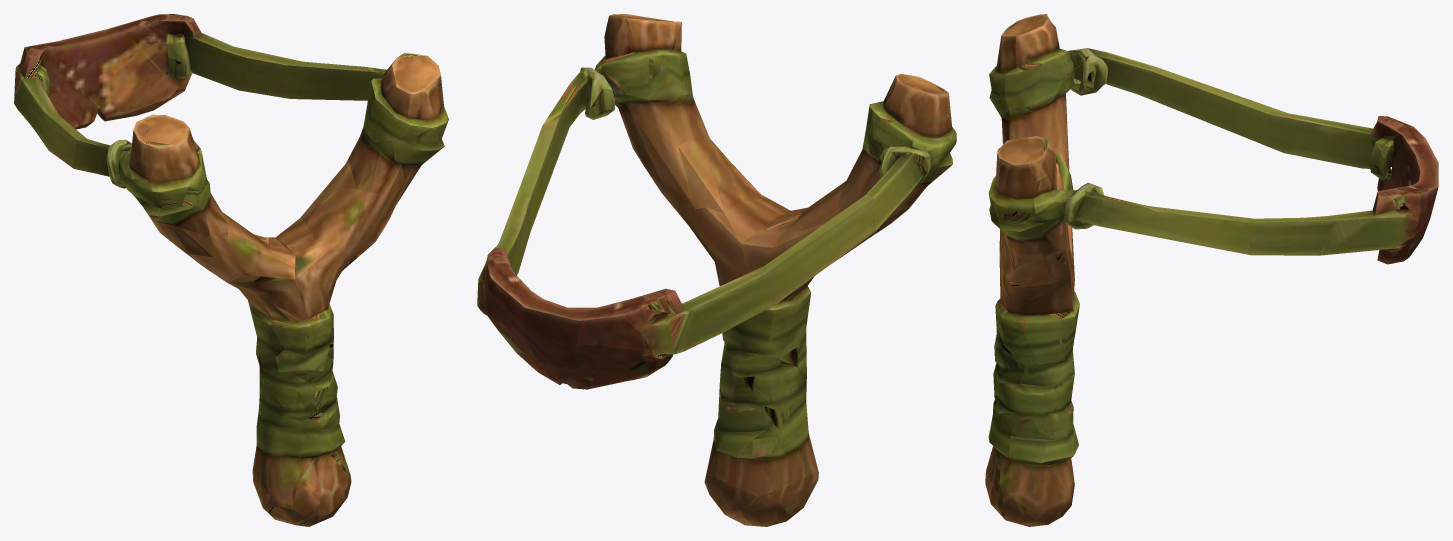
Rendered from gremlin-slingshot.low.glb.
The picture shows the model from 3 angles, left to right: view 1: azimuth 30°, elevation 25°; view 2: azimuth 150°, elevation 25°; view 3: azimuth 270°, elevation 25°; orthographic projection. The views are drawn at different scales.
Parts seen in each view (by area): view 1: output_unwrapped; view 2: output_unwrapped; view 3: output_unwrapped.
Part boxes in pixels (bbox=[...]): output_unwrapped: bbox=[14, 14, 448, 526]; output_unwrapped: bbox=[477, 14, 956, 526]; output_unwrapped: bbox=[985, 14, 1438, 526].
Size of the model in its own units: 1.44 by 1.89 by 1.8.
1 material, 1 textured.
